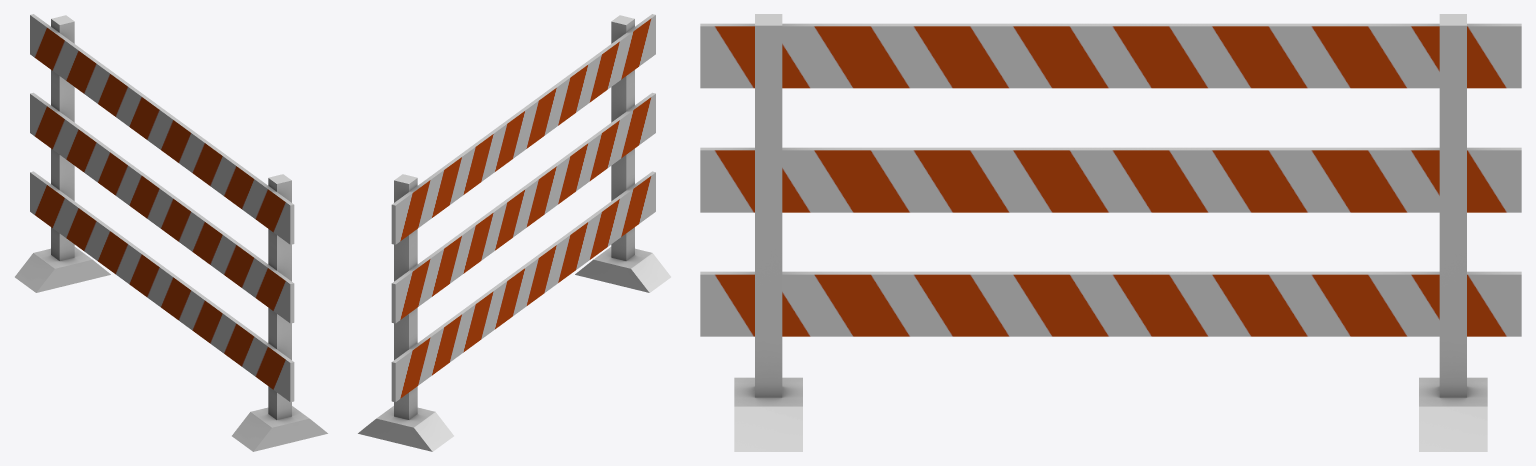
The model's file is SM_Blockade1.fbx.
The picture shows the model from 3 angles, left to right: view 1: azimuth 30°, elevation 25°; view 2: azimuth 150°, elevation 25°; view 3: azimuth 270°, elevation 25°; orthographic projection. The views are drawn at different scales.
Parts seen in each view (by area): view 1: pCube6; view 2: pCube6; view 3: pCube6.
Part boxes in pixels (left/top/right/bottom): pCube6: left=15, top=14, right=327, bottom=451; pCube6: left=358, top=14, right=670, bottom=451; pCube6: left=700, top=14, right=1521, bottom=451.
Size of the model in its own units: 20 by 65 by 120.
